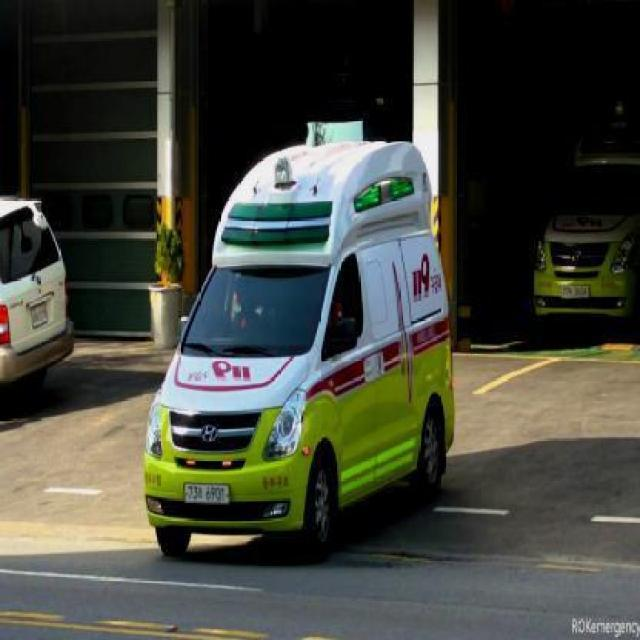emergency: (142, 135, 454, 557)
